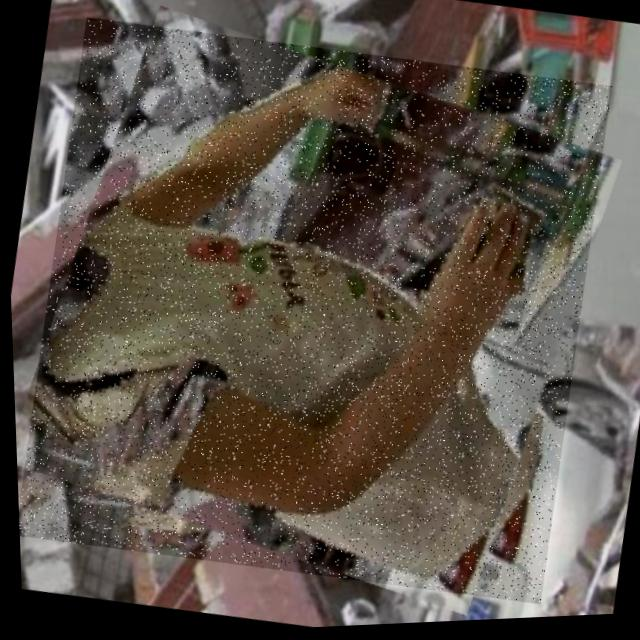Person in Rubble: (1, 0, 625, 626)
